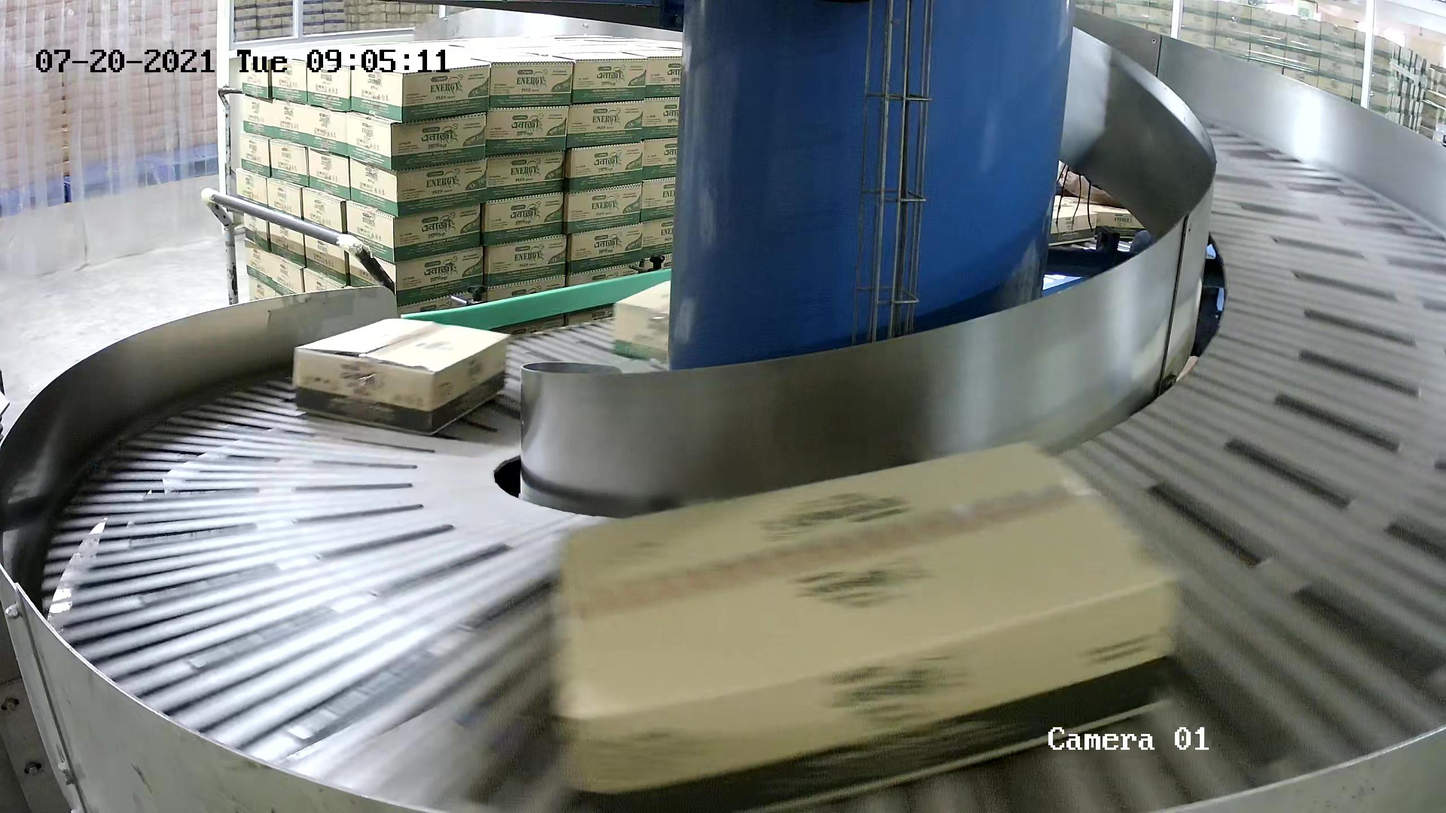Box: (550, 434, 1186, 813), (292, 316, 508, 437), (613, 275, 746, 372)
